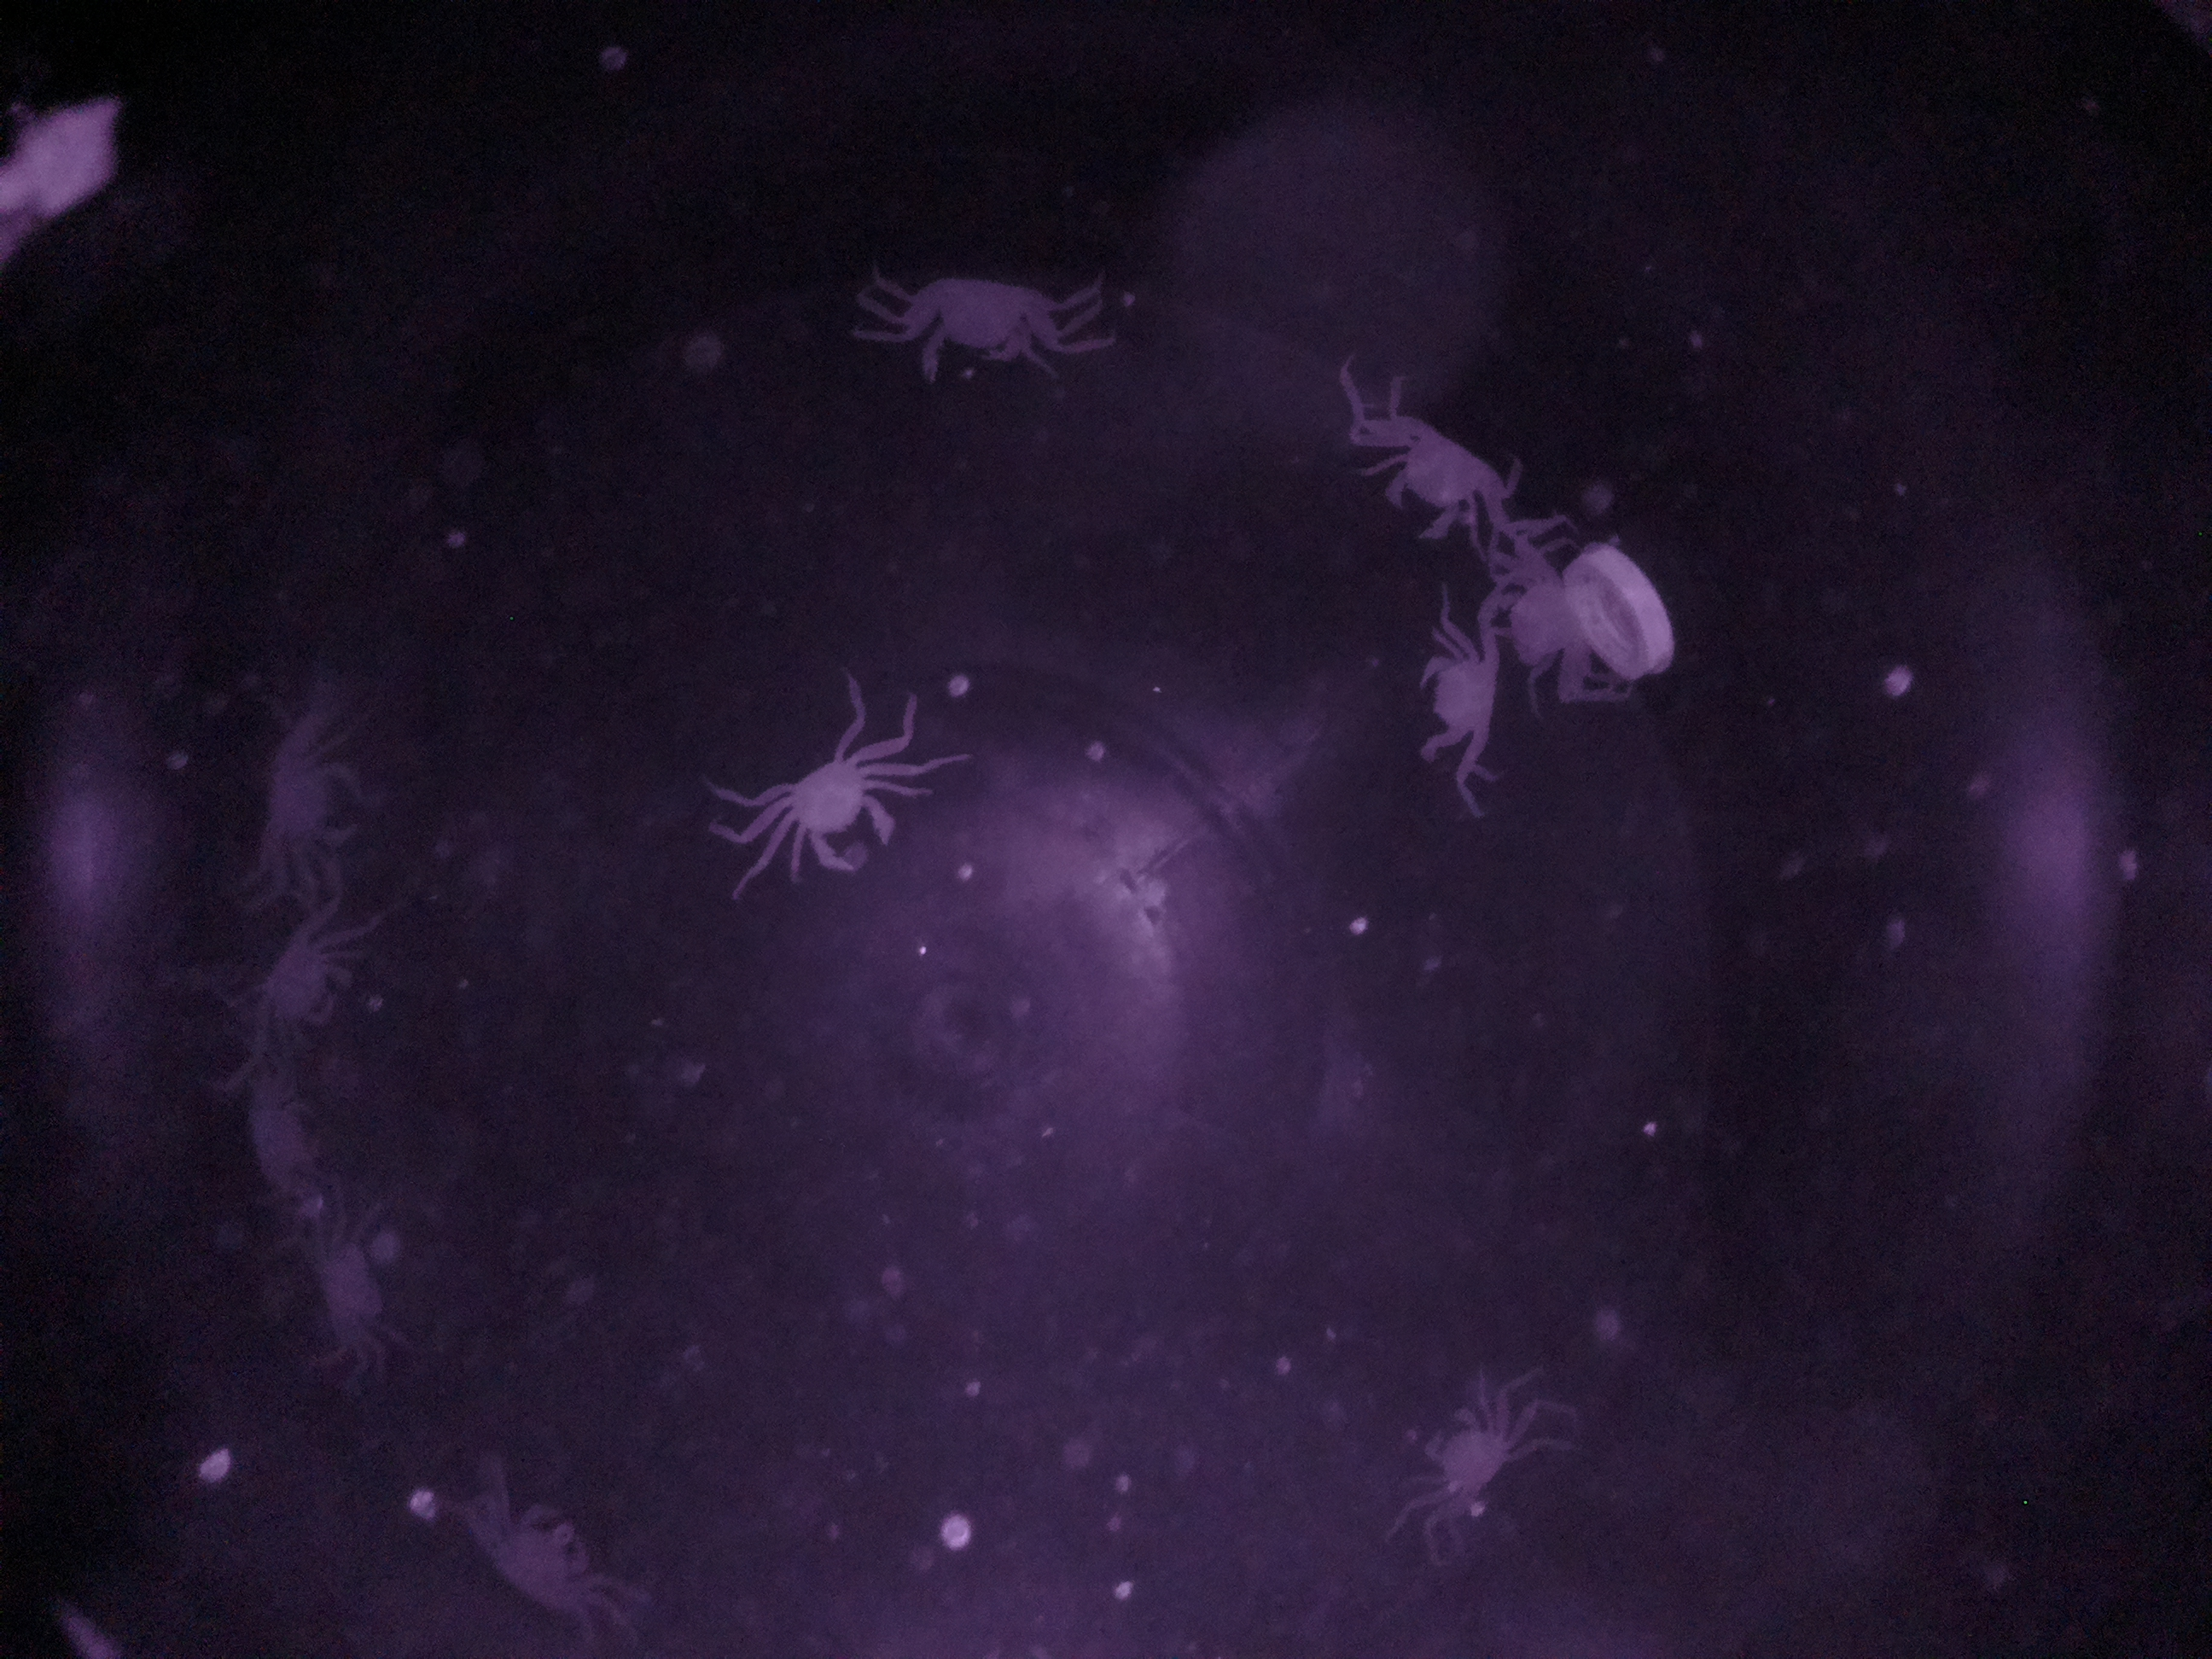Crab: (1341, 380, 1571, 559), (876, 235, 1075, 401), (742, 714, 923, 896), (448, 1460, 624, 1635), (265, 1187, 416, 1385), (1395, 589, 1531, 788), (244, 695, 383, 885), (230, 892, 387, 1054), (1399, 1377, 1545, 1540)
